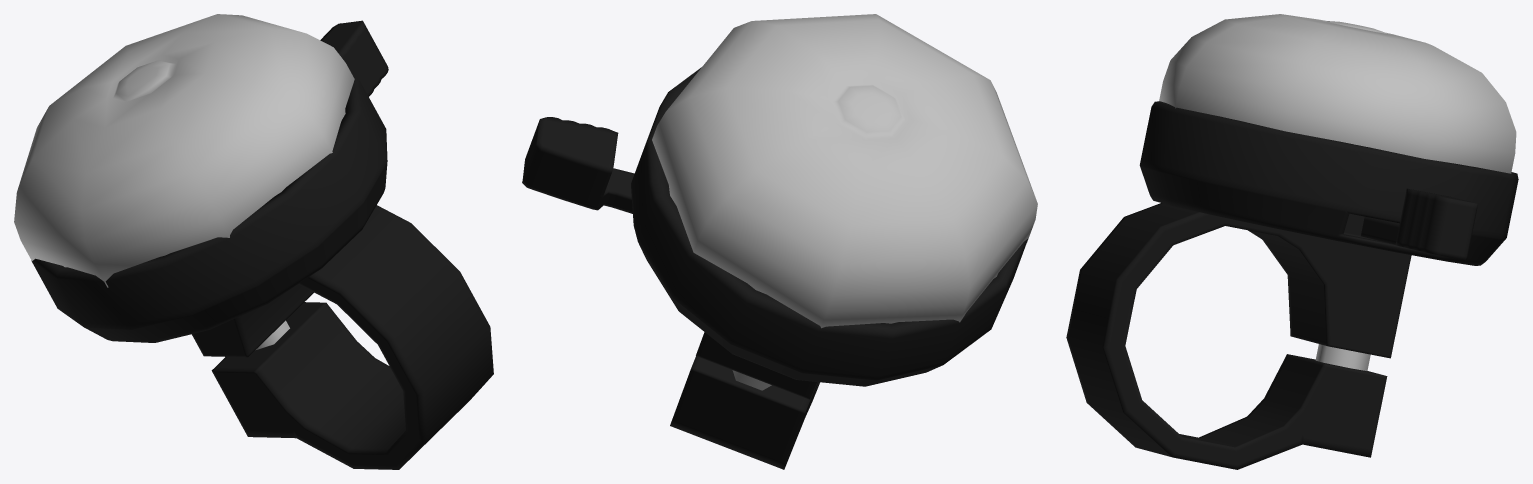
The model's file is bell.fbx.
The picture shows the model from 3 angles, left to right: view 1: azimuth 30°, elevation 25°; view 2: azimuth 150°, elevation 25°; view 3: azimuth 270°, elevation 25°; orthographic projection. The views are drawn at different scales.
Parts seen in each view (by area): view 1: Circle_001; view 2: Circle_001; view 3: Circle_001.
Part boxes in pixels (<box>): Circle_001: <box>14,14,493,469</box>; Circle_001: <box>522,14,1037,469</box>; Circle_001: <box>1066,14,1518,469</box>.
Bounding box in the file's own units: 0.1107 × 0.1092 × 0.1084.
Materials: 2 (2 with a texture image).
